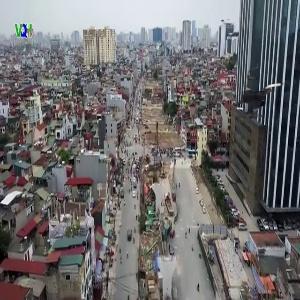drone: (230, 66, 296, 132)
